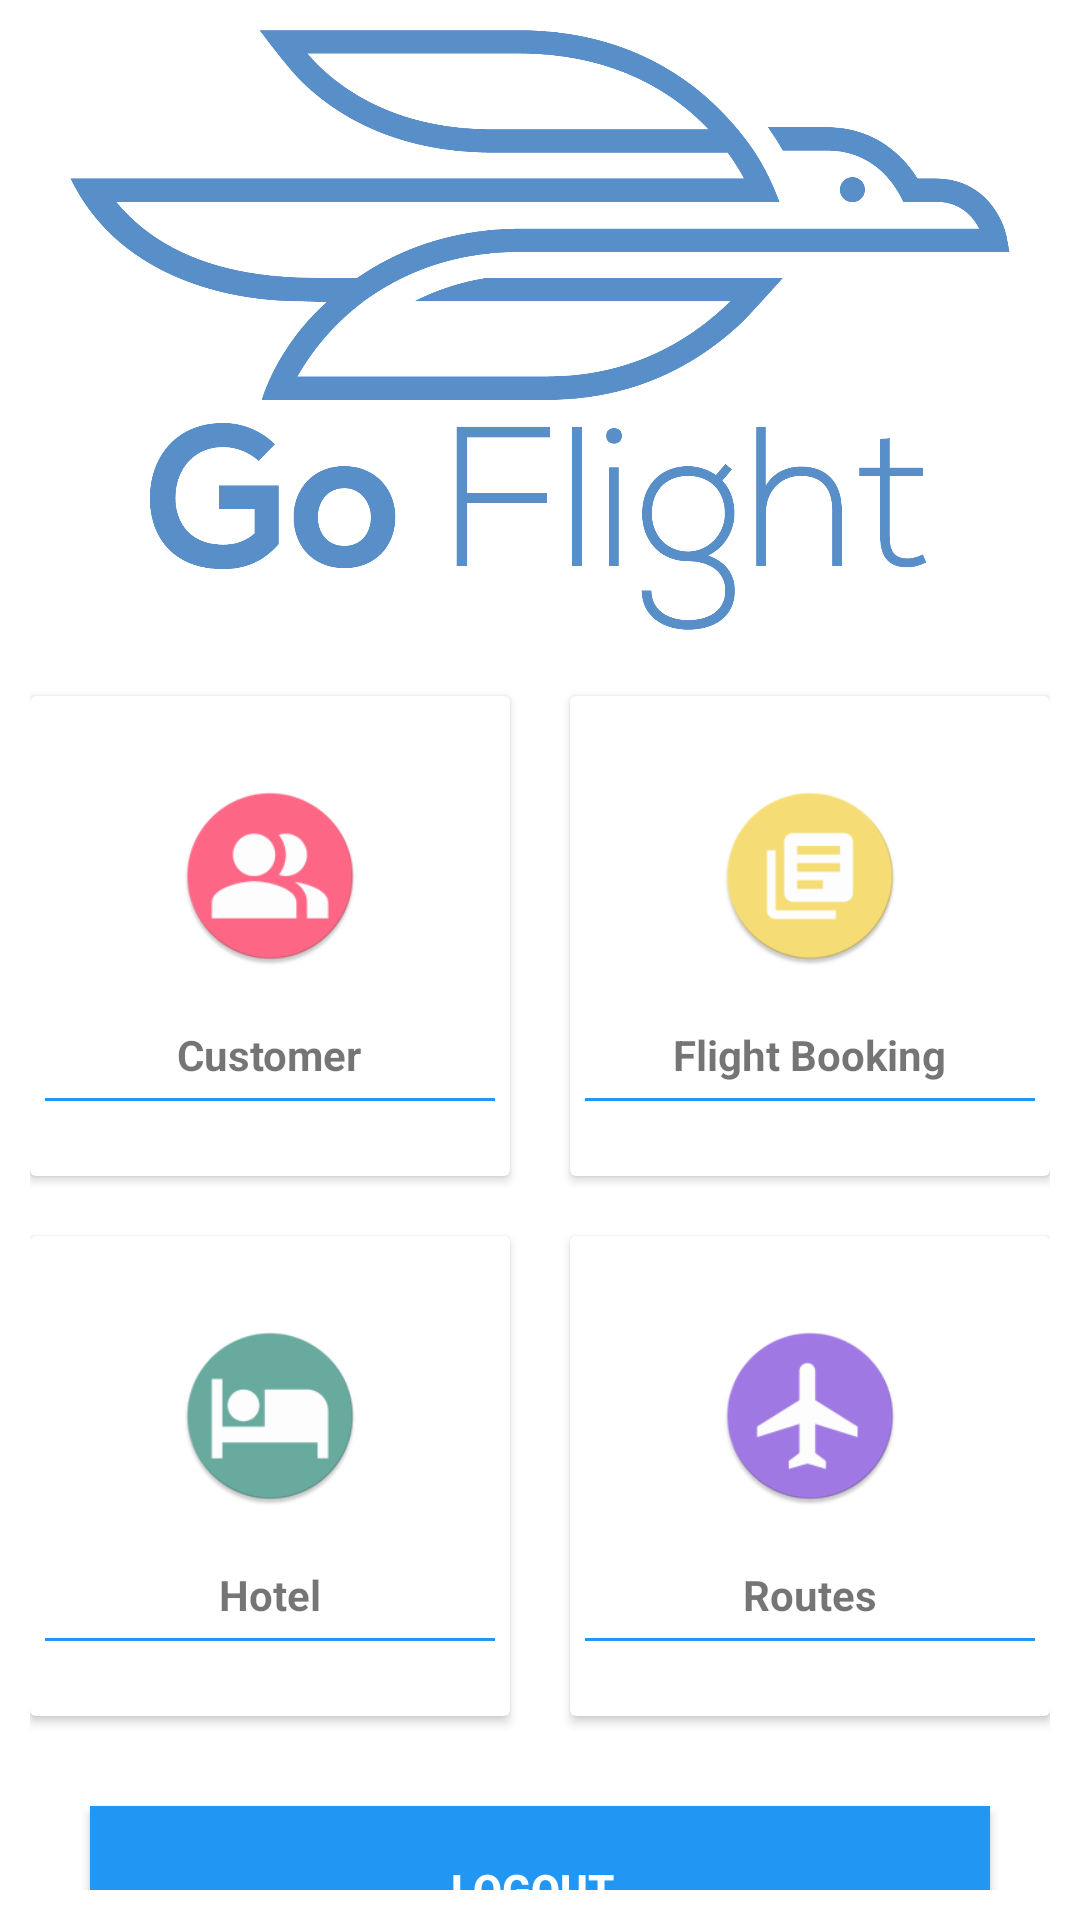

Point at icon controls on the screen. Image size 1080*1920, points as point (x, y).
flight: point (810, 1418)
person: point (270, 878)
